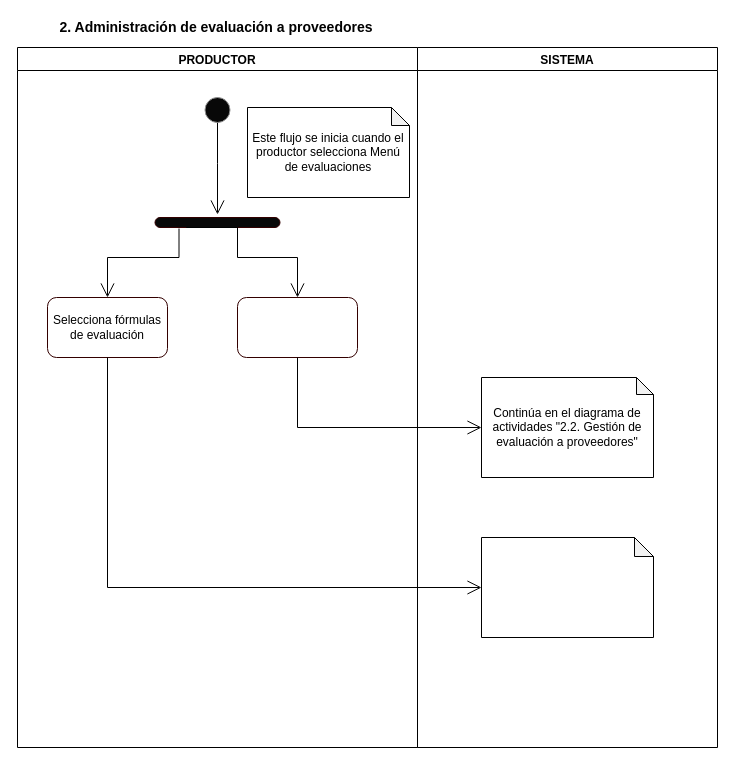
This 735x765 diagram has some shape labels left out. The shapes that lost their labels are listed below. From the top down, each one's centre as x and y in pixels, then its label:
(x=297, y=327): Selecciona evaluaciones a proveedores
(x=567, y=587): Continúa en el diagrama de actividades "2.1. Gestión de formulas de evaluación"
